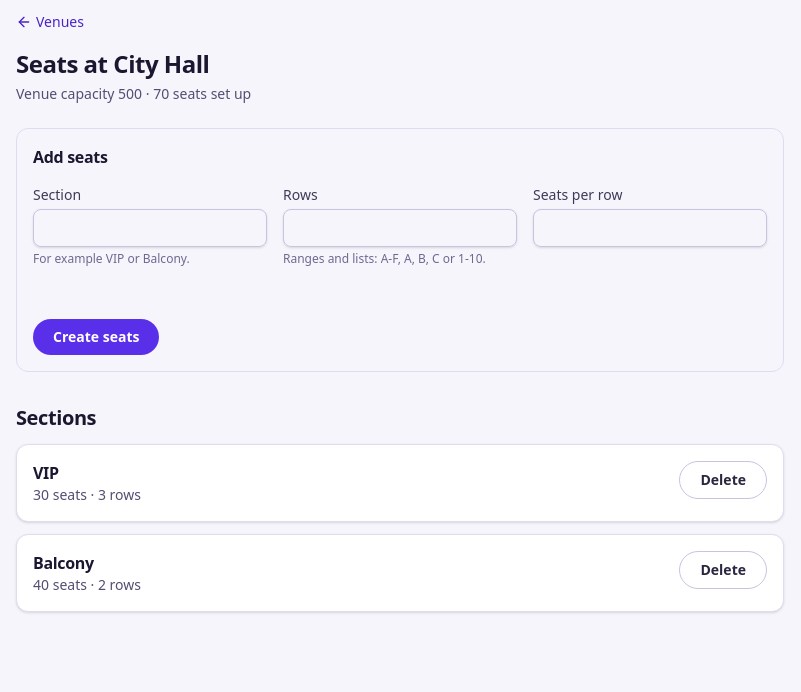
Test: OrganizerSeatsPage › deletes a section only after a second, explicit confirmation
The image size is (801, 692).
expect the text "30 seats · 3 rows" is shown: met, box [33, 485, 141, 505]
Step 1. Click the button with aria-label "Delete section VIP" → (723, 480), box [680, 461, 767, 499]
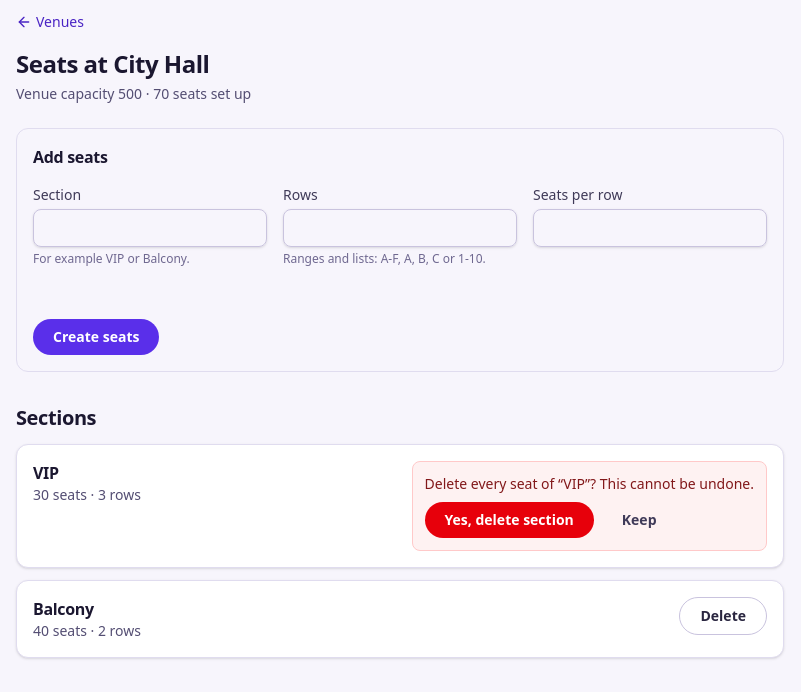
Step 2. Click the button "Yes, delete section" → (509, 520), box [425, 502, 594, 538]
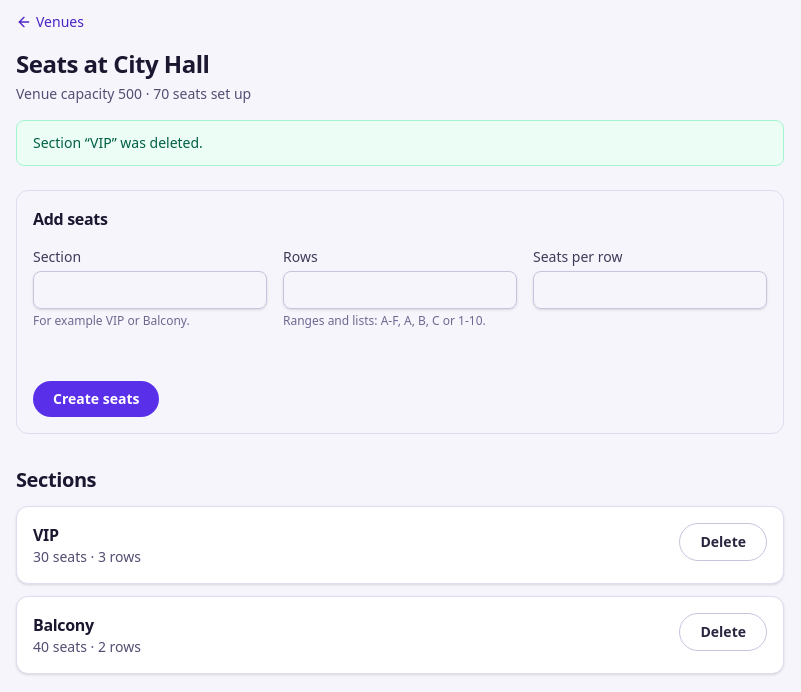
expect the text "Section “VIP” was deleted." is shown: met, box [16, 120, 784, 166]
